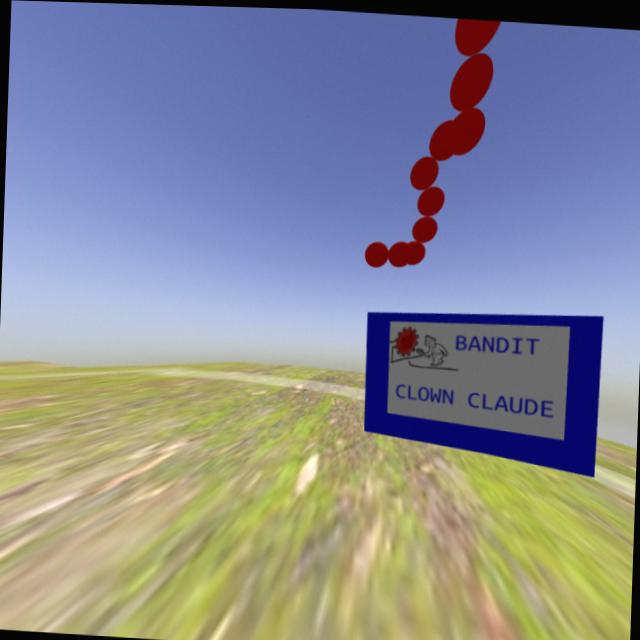clueboard: (350, 291, 610, 484)
